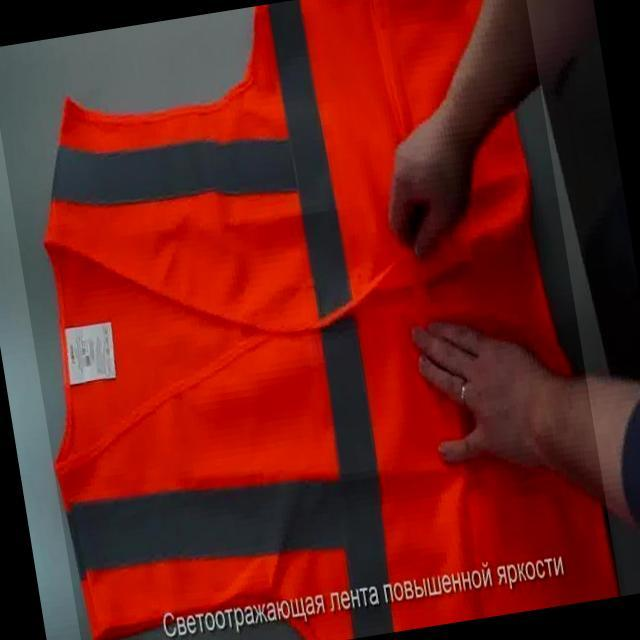Safety Vest: (0, 0, 621, 640)
bare-arms: (392, 305, 573, 483), (368, 115, 485, 272)
